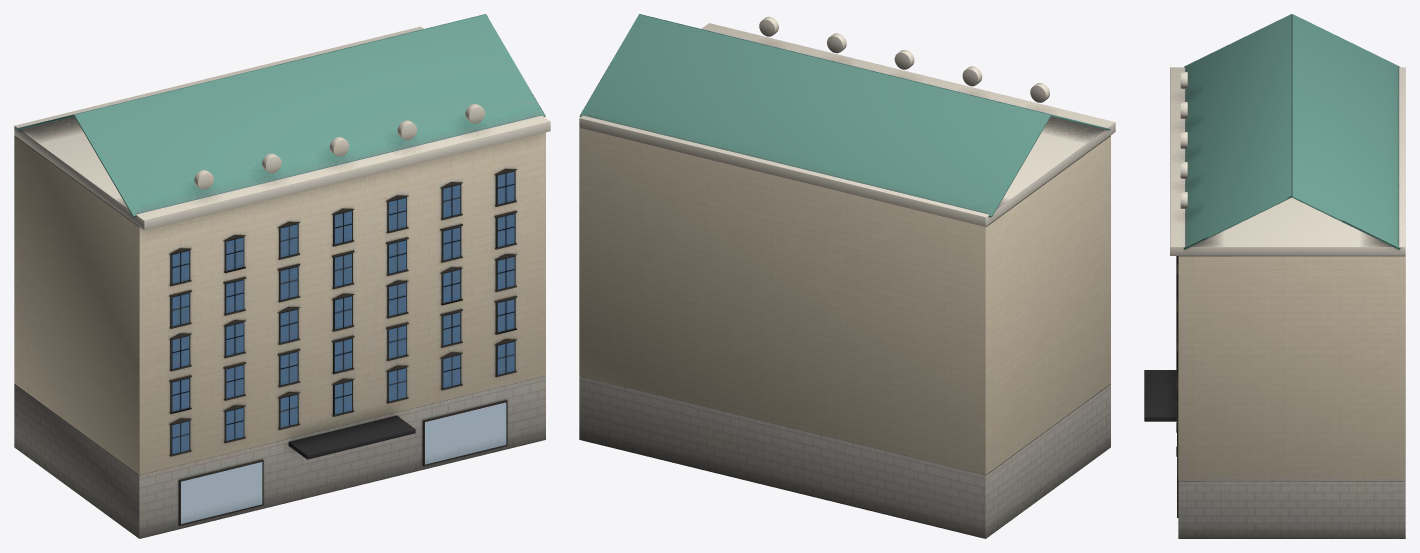
File: st_regis.glb
3 views of the same model, side by side, from view 1: azimuth 30°, elevation 25°; view 2: azimuth 150°, elevation 25°; view 3: azimuth 270°, elevation 25° (orthographic). The views are drawn at different scales.
Parts seen in each view (by area): view 1: st_regis; view 2: st_regis; view 3: st_regis.
Part boxes in pixels (box(x1,y1,x2,y2)): st_regis: box(14, 14, 550, 538); st_regis: box(579, 14, 1115, 538); st_regis: box(1144, 14, 1405, 538).
Bounding box in the file's own units: 30.4 × 26.74 × 18.4.
1 material, 1 textured.
